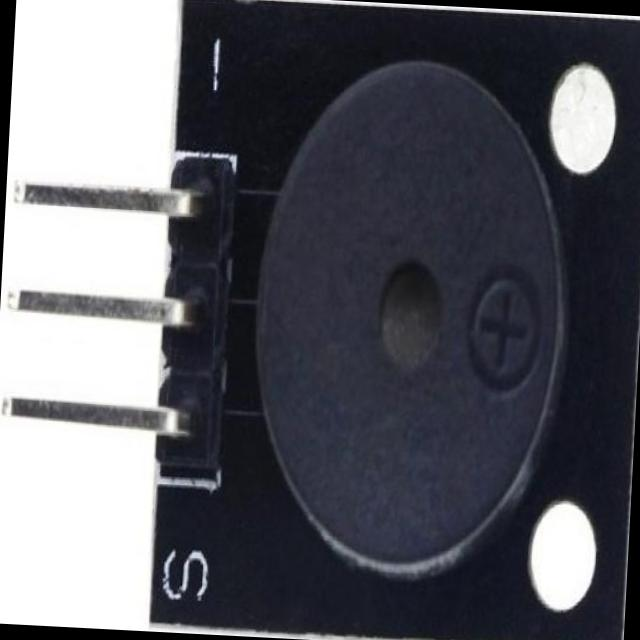connector: (0, 140, 235, 470)
